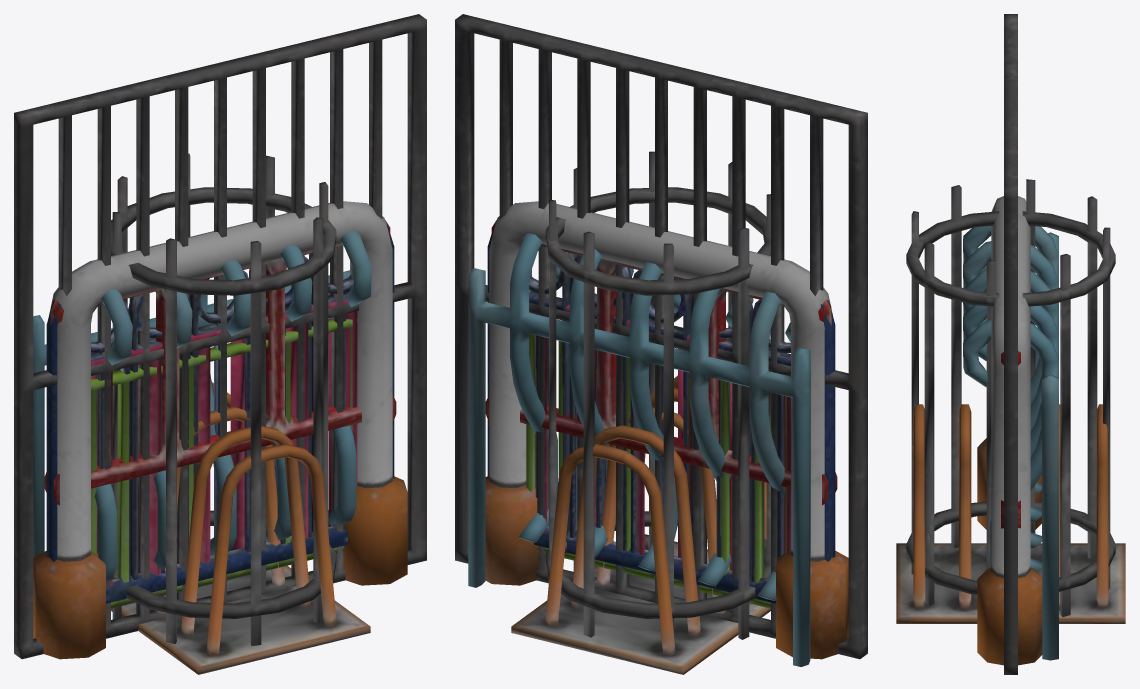
The model's file is barriers.glb.
The picture shows the model from 3 angles, left to right: view 1: azimuth 30°, elevation 25°; view 2: azimuth 150°, elevation 25°; view 3: azimuth 270°, elevation 25°; orthographic projection. The views are drawn at different scales.
Visible parts, largest first — view 1: barriers_001, barriers_002, barriers_008, barriers_000, barriers_004, barriers_006, barriers_005, barriers_003, barriers_007; view 2: barriers_001, barriers_004, barriers_002, barriers_008, barriers_000, barriers_006, barriers_003, barriers_007, barriers_005; view 3: barriers_008, barriers_000, barriers_002, barriers_004, barriers_001.
Part boxes in pixels (box(x1,y1,x2,y2)): barriers_001: box(14, 14, 426, 659); barriers_002: box(33, 201, 407, 659); barriers_008: box(111, 153, 336, 646); barriers_000: box(111, 382, 370, 674); barriers_004: box(33, 230, 371, 581); barriers_006: box(46, 225, 394, 603); barriers_005: box(91, 299, 357, 586); barriers_003: box(44, 220, 396, 505); barriers_007: box(91, 318, 357, 608); barriers_001: box(455, 14, 867, 659); barriers_004: box(468, 233, 810, 666); barriers_002: box(485, 201, 848, 659); barriers_008: box(545, 151, 770, 639); barriers_000: box(511, 375, 770, 674); barriers_006: box(487, 225, 835, 603); barriers_003: box(485, 220, 837, 505); barriers_007: box(526, 333, 786, 608); barriers_005: box(531, 304, 790, 570); barriers_008: box(906, 179, 1115, 616); barriers_000: box(896, 404, 1125, 623); barriers_002: box(977, 196, 1042, 665); barriers_004: box(963, 226, 1058, 660); barriers_001: box(1004, 14, 1017, 674).
Size of the model in its own units: 0.8876 by 1.13 by 0.4861.
Materials: 1 (1 with a texture image).
